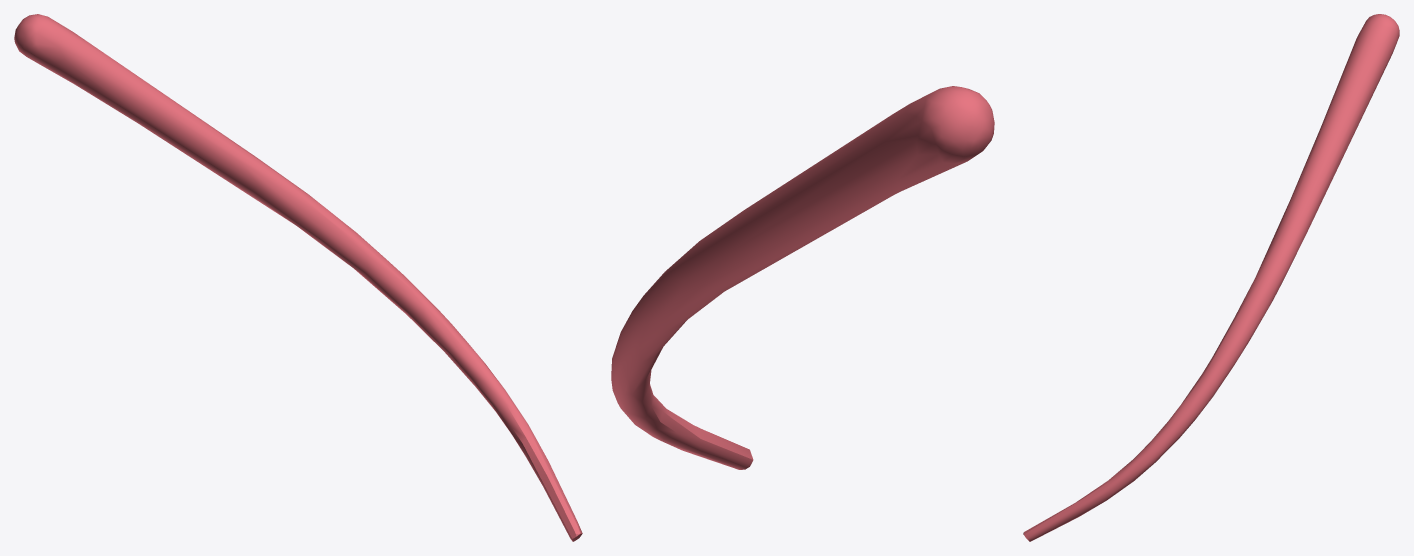
File: fma13289_fj6028.glb
3 renders of one model, left to right at view 1: azimuth 30°, elevation 25°; view 2: azimuth 150°, elevation 25°; view 3: azimuth 270°, elevation 25°, orthographic. The views are drawn at different scales.
Parts seen in each view (by area): view 1: FMA13289_FJ6028; view 2: FMA13289_FJ6028; view 3: FMA13289_FJ6028.
Boxes of the visible parts, left/top/right/bottom form: FMA13289_FJ6028: left=14, top=14, right=582, bottom=541; FMA13289_FJ6028: left=611, top=86, right=994, bottom=469; FMA13289_FJ6028: left=1023, top=14, right=1399, bottom=541.
Bounding box in the file's own units: 0.0446 × 0.0536 × 0.0472.
